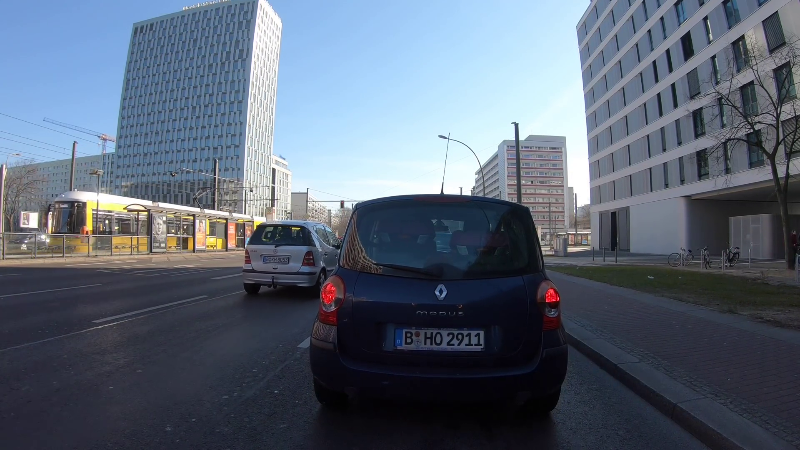Plate: (391, 324, 489, 354), (259, 254, 290, 266)
